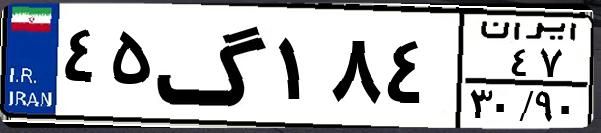0: (560, 70, 590, 125), (495, 70, 520, 125)
1: (270, 28, 330, 110)
3: (470, 70, 495, 125)
4: (385, 28, 445, 110), (57, 26, 110, 100), (508, 27, 537, 80)
5: (110, 28, 156, 98)
7: (537, 27, 568, 80)
8: (330, 28, 385, 110)
9: (535, 70, 560, 125)
گ: (156, 12, 270, 120)
